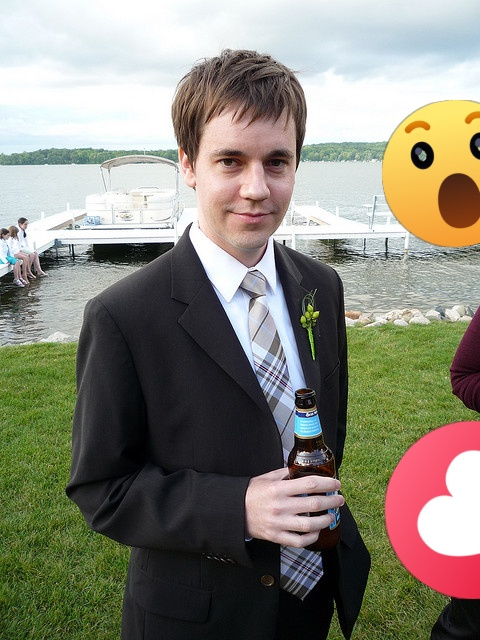love: (385, 421, 480, 599)
wow: (382, 100, 480, 247)
